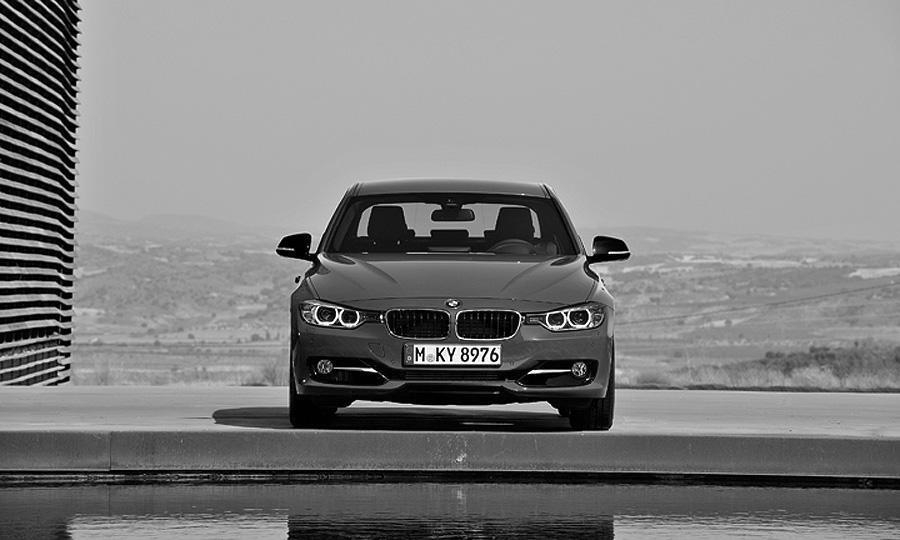car: (266, 167, 645, 437)
